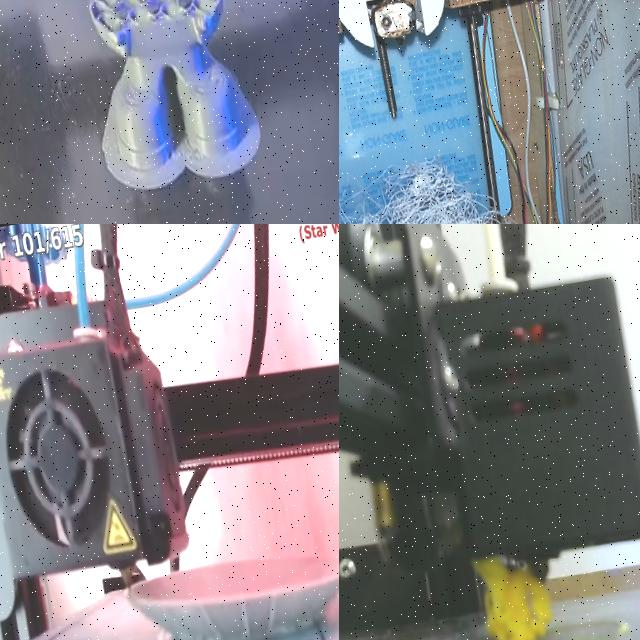spaghetti: (339, 112, 616, 224), (467, 551, 570, 640)
